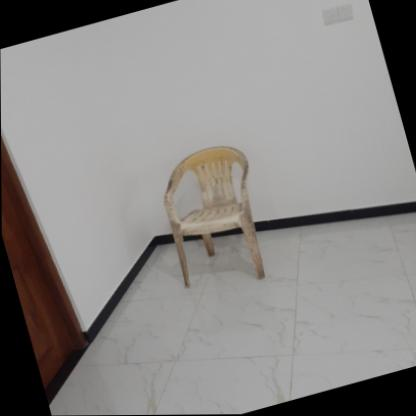Chair: (151, 138, 280, 300)
